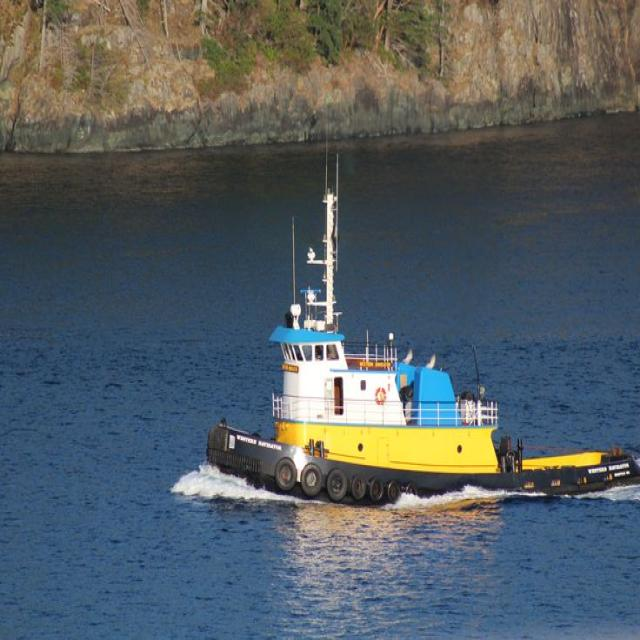houseboat: (208, 212, 636, 500)
